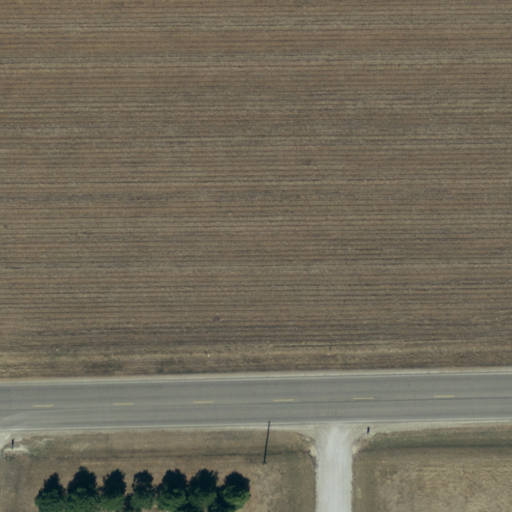DT: (255, 454, 274, 472)
